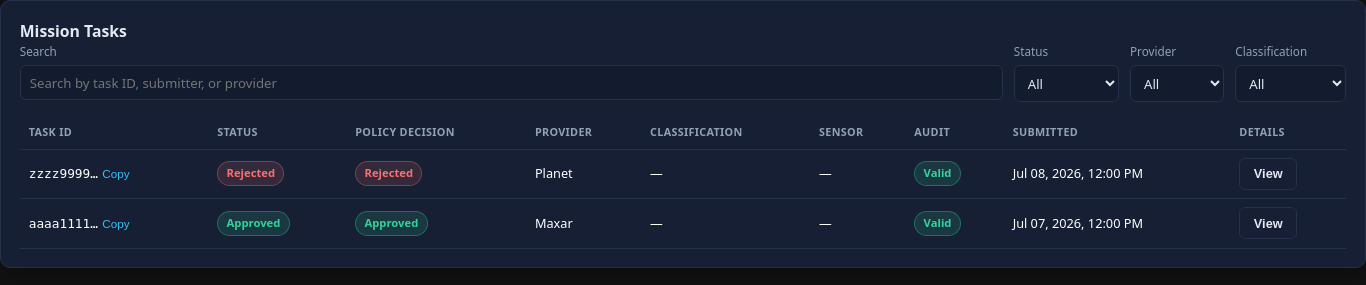
Test: TaskTable › filters rows by search term
Type "planet" into the field with placeholder "Search by task ID, submitter, or provider" at (511, 83), box [20,65,1003,100]
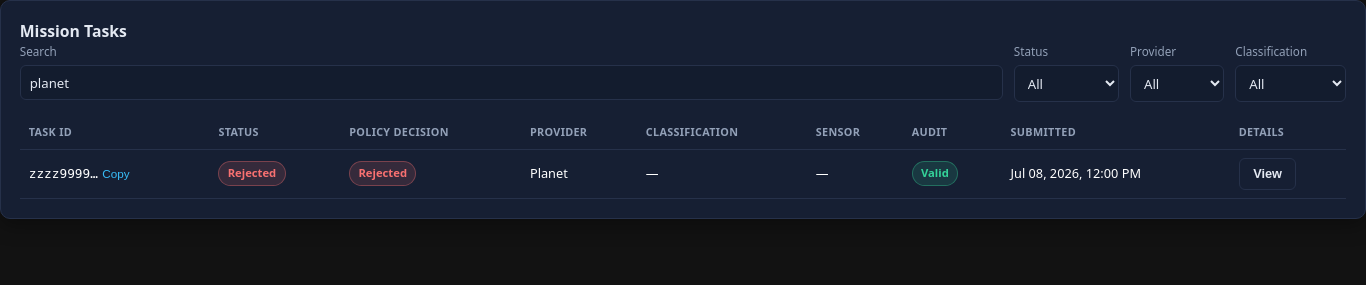
Check: the text "Planet" is shown, box [521,149,637,199]
Check: the text "Maxar" is gone
